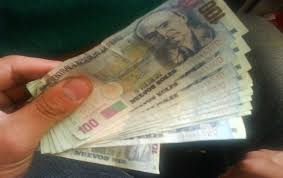billete: (25, 1, 254, 174)
